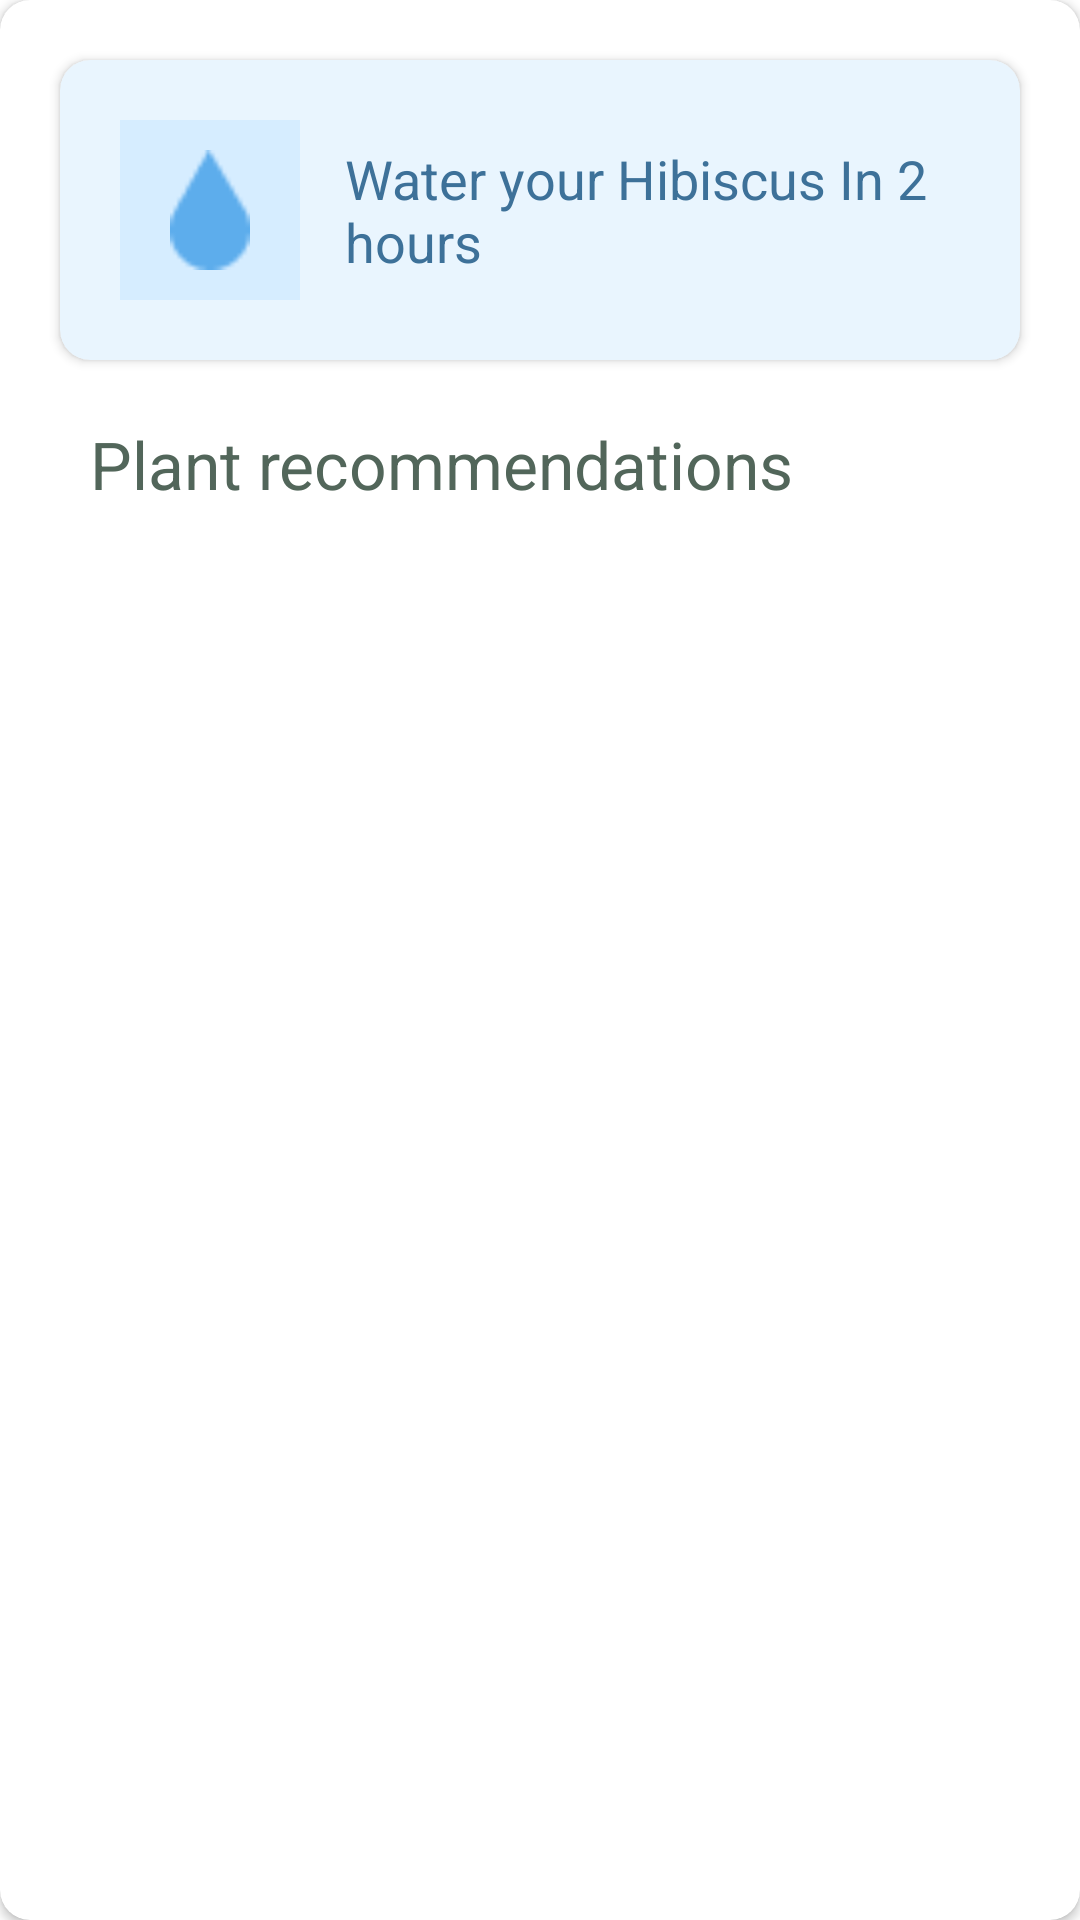

Where icons sit on this 1080w x 1920h app screen, as (x1, y1, x2, y2):
drop: (170, 150, 250, 270)
